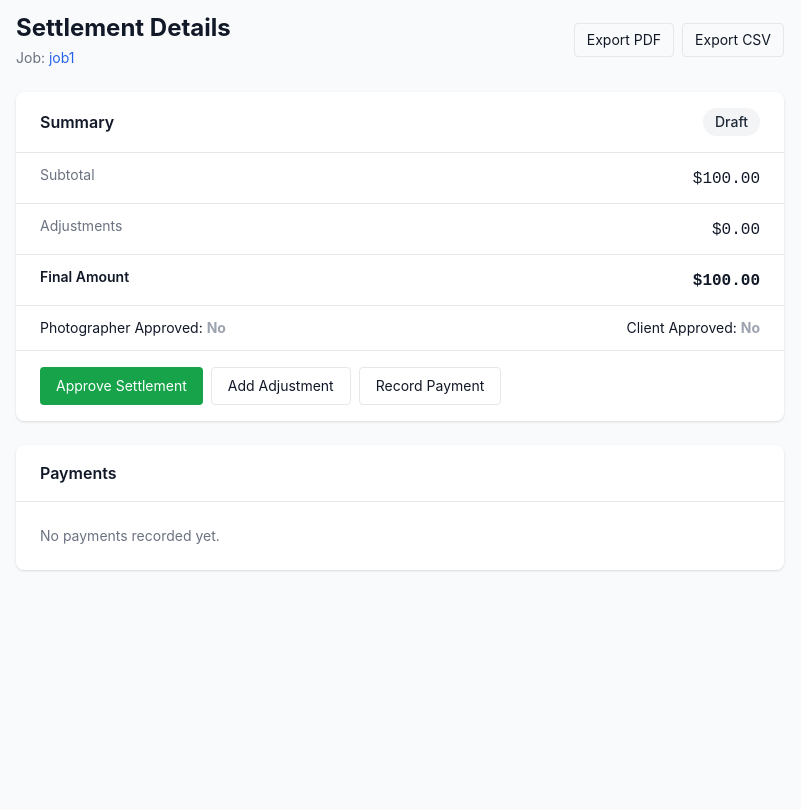
Test case: SettlementDetailPage › toggles adjustment form on button click
Click the button "Add Adjustment" at coordinates (281, 386), box [211, 367, 351, 405]
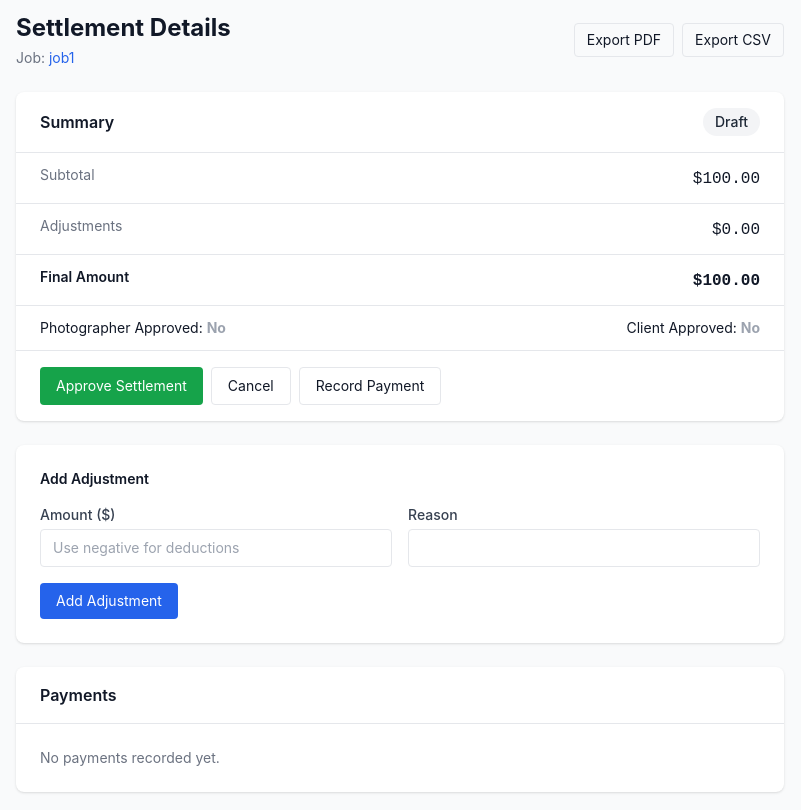
Now the number field with placeholder "Use negative for deductions" is shown, box [40, 529, 392, 567]
